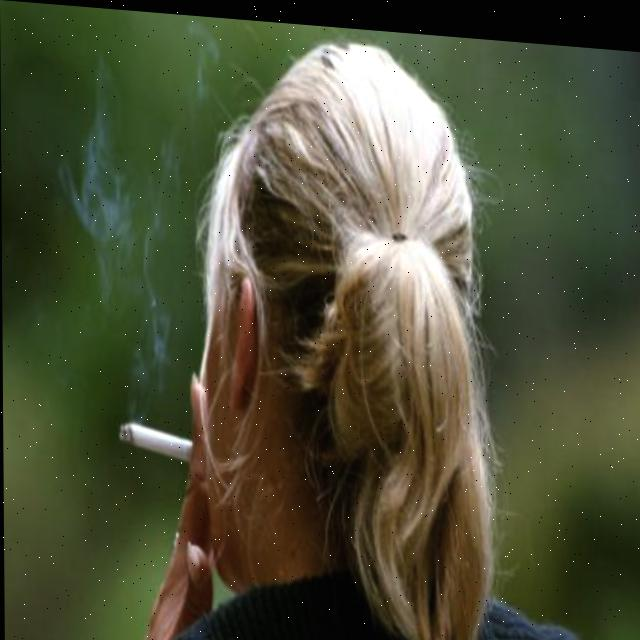cigarette: (118, 417, 193, 466)
